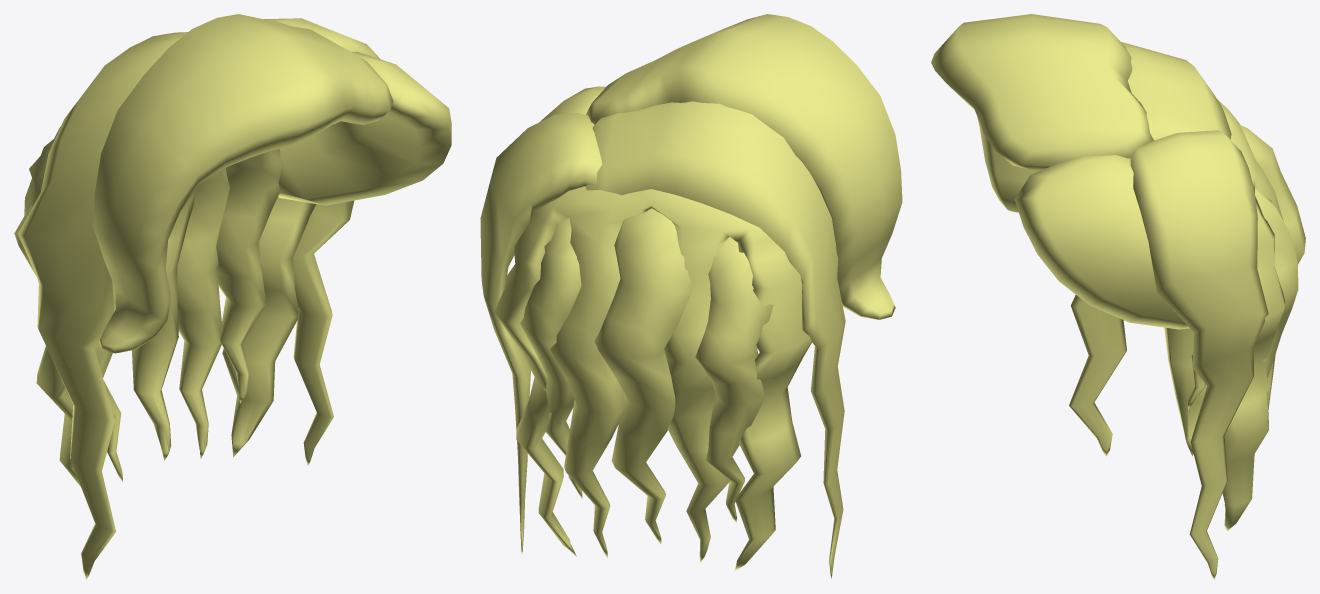
Rendered from HeadPiece_Female1.fbx.
3 renders of one model, left to right at view 1: azimuth 30°, elevation 25°; view 2: azimuth 150°, elevation 25°; view 3: azimuth 270°, elevation 25°, orthographic. The views are drawn at different scales.
Parts seen in each view (by area): view 1: pCube27; view 2: pCube27; view 3: pCube27.
Boxes of the visible parts, x1,y1,x2,y2 form: pCube27: [14, 14, 451, 579]; pCube27: [480, 14, 902, 579]; pCube27: [931, 14, 1305, 579].
Size of the model in its own units: 0.2673 by 0.3742 by 0.2601.
